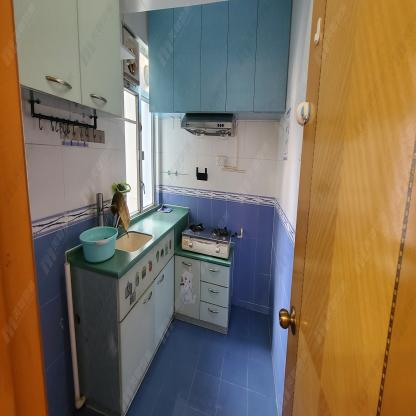Cupboard: (150, 0, 292, 112), (14, 2, 121, 116), (117, 230, 174, 414), (171, 254, 229, 331)
Exhaust Fan: (123, 26, 140, 87)
Exhaust Hood: (180, 114, 240, 142)
Faucet: (95, 191, 122, 224)
Sink: (116, 230, 151, 253)
Stove: (180, 227, 236, 257)
